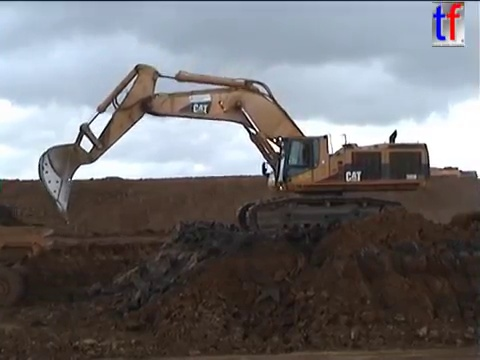excavator: (34, 60, 434, 240)
truck: (1, 218, 55, 309), (403, 163, 479, 189)
